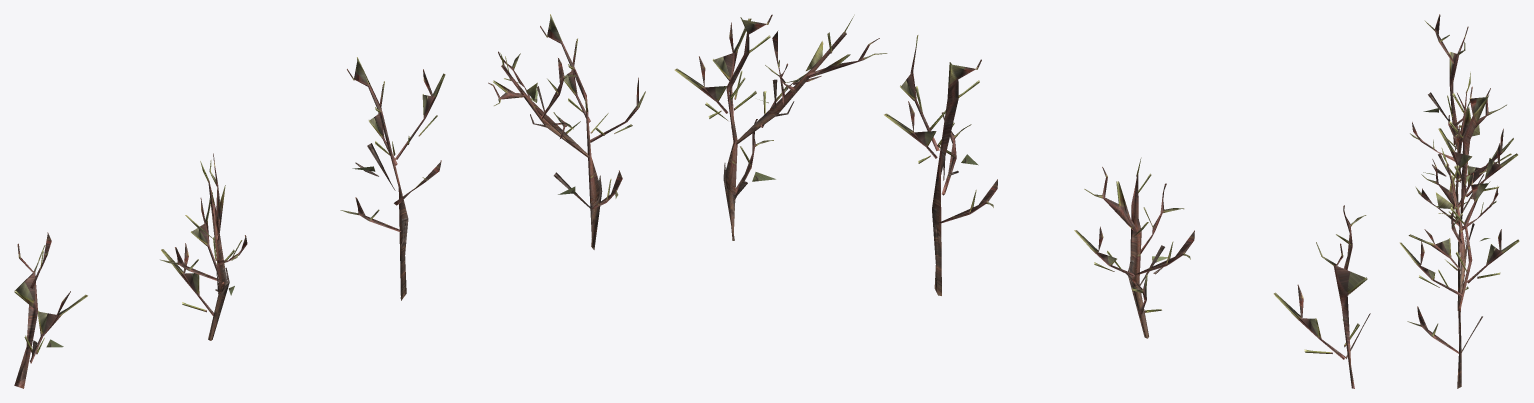
File: shrub_04_lod.glb
3 views of the same model, side by side, from view 1: azimuth 30°, elevation 25°; view 2: azimuth 150°, elevation 25°; view 3: azimuth 270°, elevation 25° (orthographic). The views are drawn at different scales.
Visible parts, largest first — view 1: shrub_04; view 2: shrub_04; view 3: shrub_04.
Part boxes in pixels (box(x1,y1,x2,y2)): shrub_04: box(14, 14, 645, 388); shrub_04: box(674, 14, 1370, 388); shrub_04: box(1399, 14, 1519, 388).
Size of the model in its own units: 0.5504 by 0.202 by 0.1076.
Materials: 1 (1 with a texture image).
